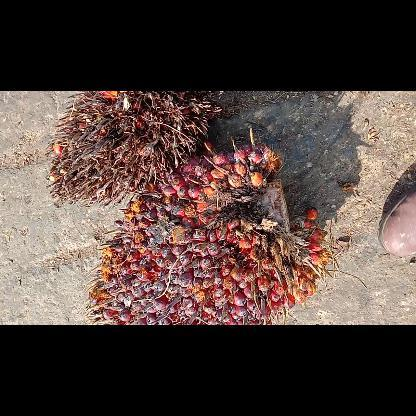TBS masak: (86, 128, 330, 324)
Terlalu masak: (45, 90, 220, 206)
